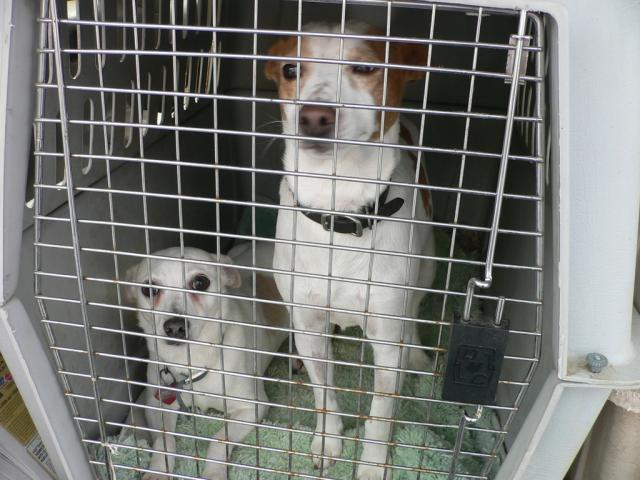Dog: (253, 19, 441, 480), (120, 230, 294, 480)
